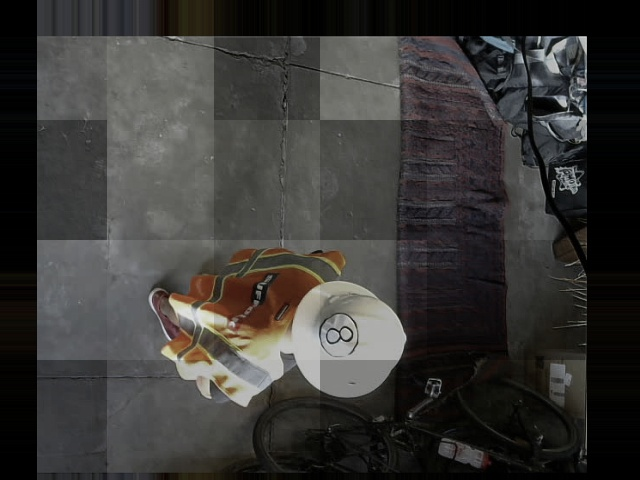eight: (318, 310, 356, 354)
